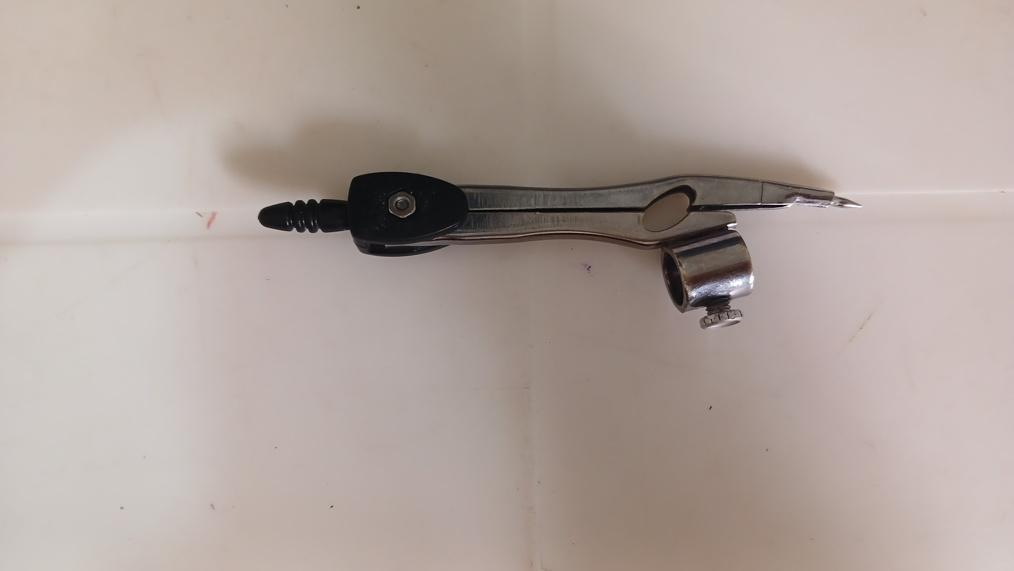Compass: (254, 172, 862, 333)
